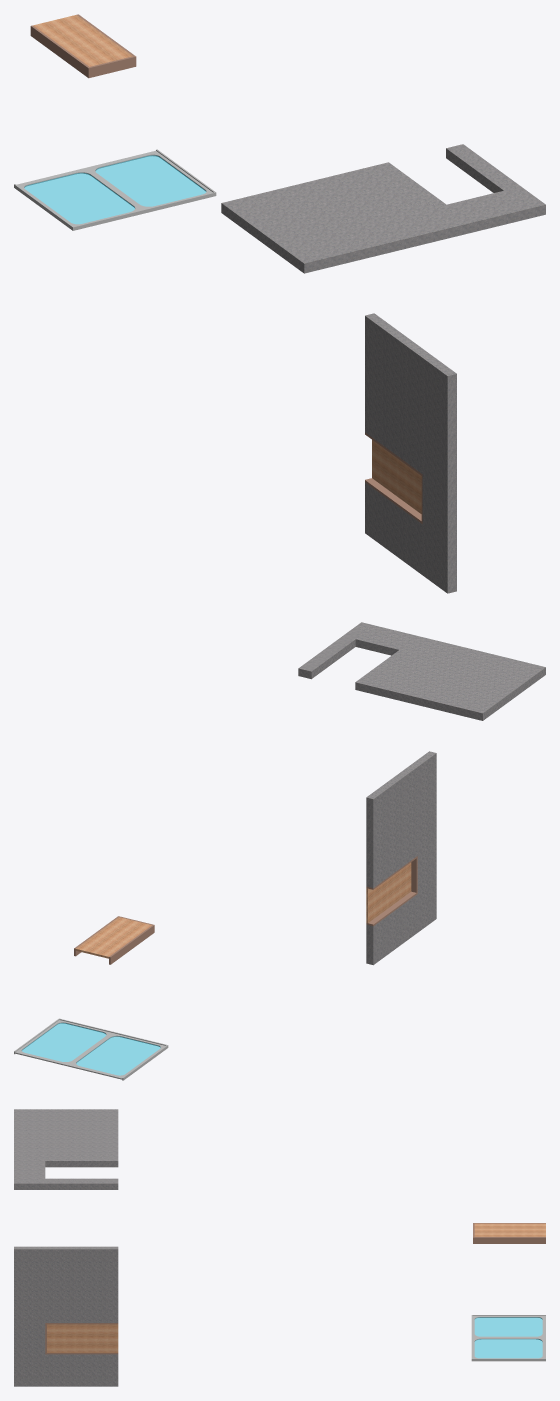
The picture shows the model from 3 angles, top to bottom: view 1: azimuth 30°, elevation 25°; view 2: azimuth 150°, elevation 25°; view 3: azimuth 270°, elevation 25°; orthographic projection. The views are drawn at different scales.
Visible parts, largest first — view 1: 0_0_2_2_1_1_1; view 2: 0_0_2_2_1_1_1; view 3: 0_0_2_2_1_1_1.
Part boxes in pixels (x1=…): 0_0_2_2_1_1_1: x1=14, y1=14, x2=545, y2=593; 0_0_2_2_1_1_1: x1=14, y1=622, x2=545, y2=1080; 0_0_2_2_1_1_1: x1=14, y1=1109, x2=545, y2=1386.
Size of the model in its own units: 5.76 by 7.3 by 15.3.
Materials: 8 (4 with a texture image).
